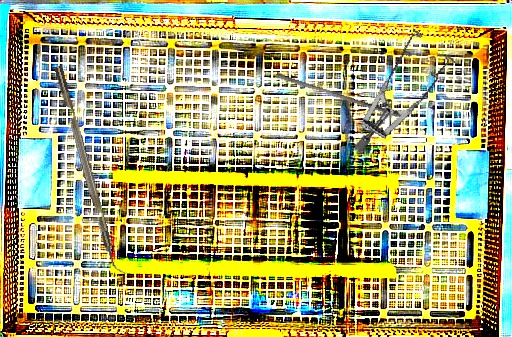Chopper: (54, 62, 129, 278)
Pusher: (274, 72, 403, 118)
Speculum: (320, 18, 475, 155)
